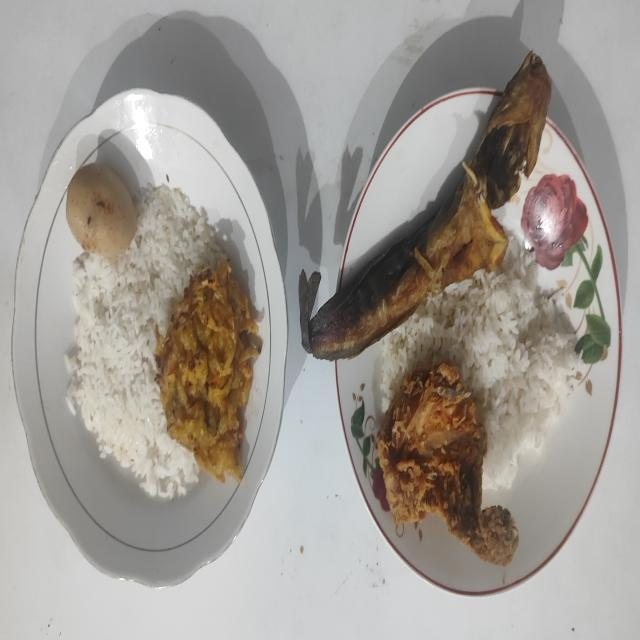nasi_putih: (374, 231, 578, 490), (66, 186, 226, 498)
